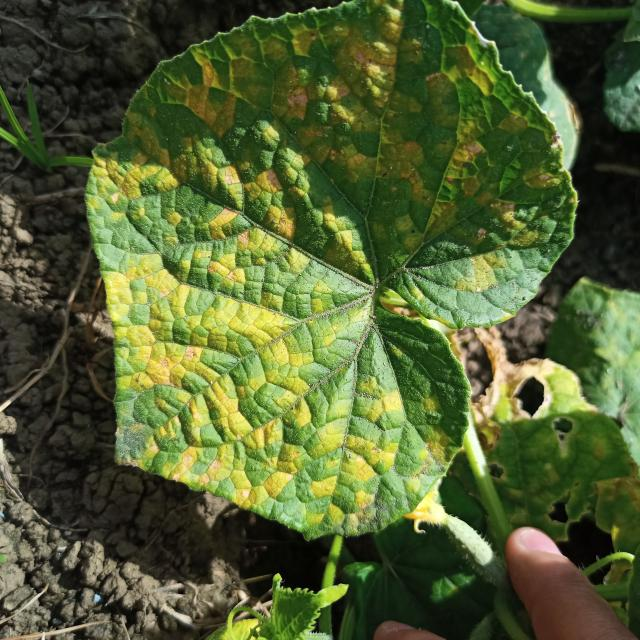disease_cucumber: (93, 4, 554, 530)
